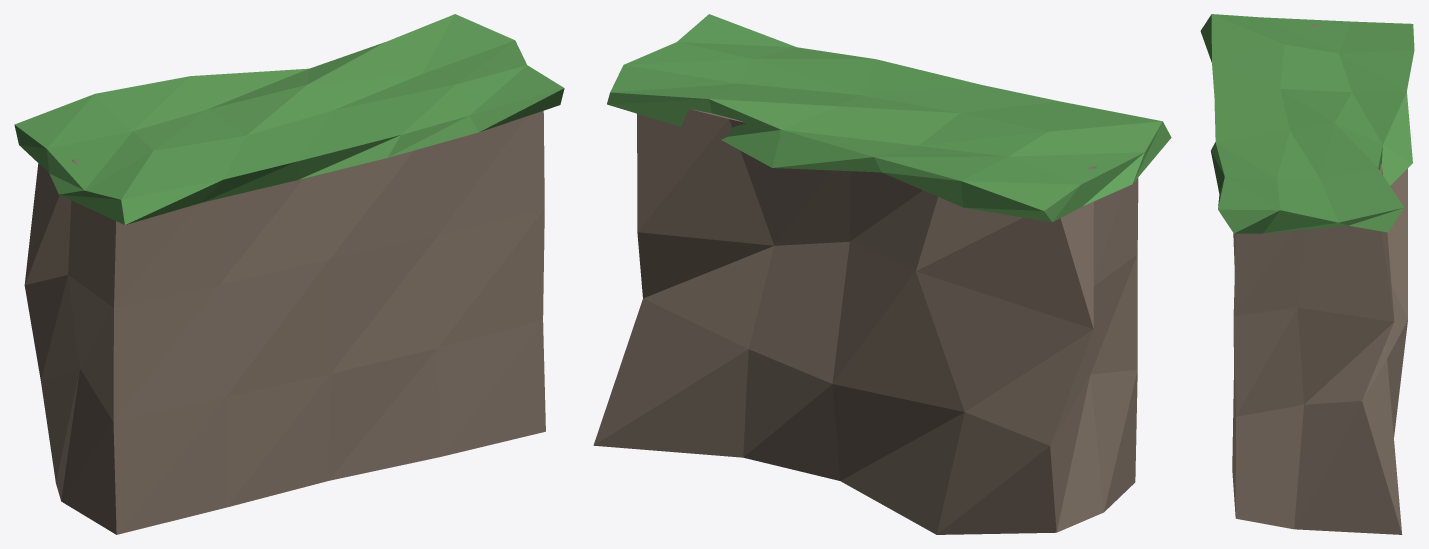
Rendered from cliff-edge-a.glb.
The picture shows the model from 3 angles, left to right: view 1: azimuth 30°, elevation 25°; view 2: azimuth 150°, elevation 25°; view 3: azimuth 270°, elevation 25°; orthographic projection. The views are drawn at different scales.
Parts seen in each view (by area): view 1: rock, grass; view 2: rock, grass; view 3: rock, grass.
Part boxes in pixels (<box>): rock: <box>24,111,545,534</box>; grass: <box>14,14,564,224</box>; rock: <box>593,109,1138,534</box>; grass: <box>607,14,1171,222</box>; rock: <box>1232,24,1407,534</box>; grass: <box>1200,14,1414,233</box>.
Size of the model in its own units: 9 by 6.62 by 3.87.
